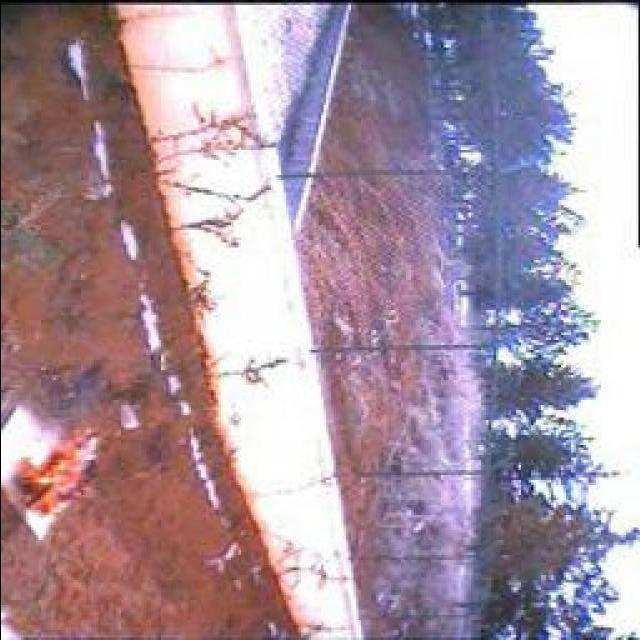Fire: (12, 432, 88, 517)
